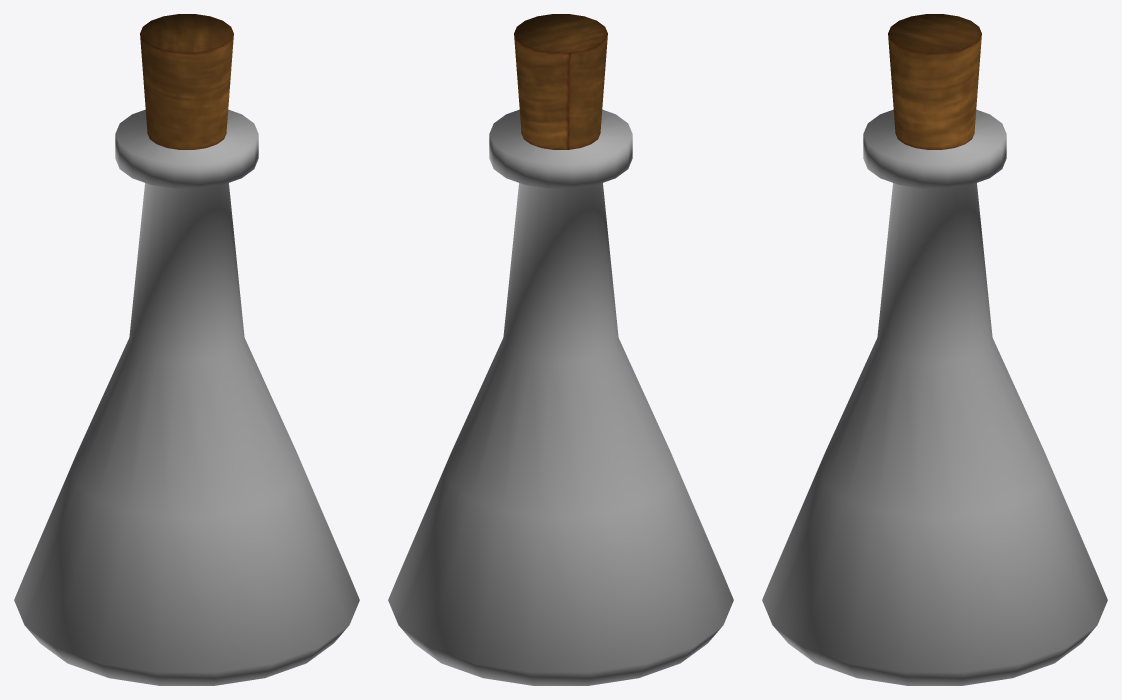
Rendered from FlasksD.fbx.
3 views of the same model, side by side, from view 1: azimuth 30°, elevation 25°; view 2: azimuth 150°, elevation 25°; view 3: azimuth 270°, elevation 25° (orthographic).
Visible parts, largest first — view 1: FlasksD; view 2: FlasksD; view 3: FlasksD.
Boxes of the visible parts, x1,y1,x2,y2 form: FlasksD: (14, 14, 359, 685); FlasksD: (388, 14, 733, 685); FlasksD: (762, 14, 1107, 685).
Bounding box in the file's own units: 11.5 × 21.88 × 11.68.
